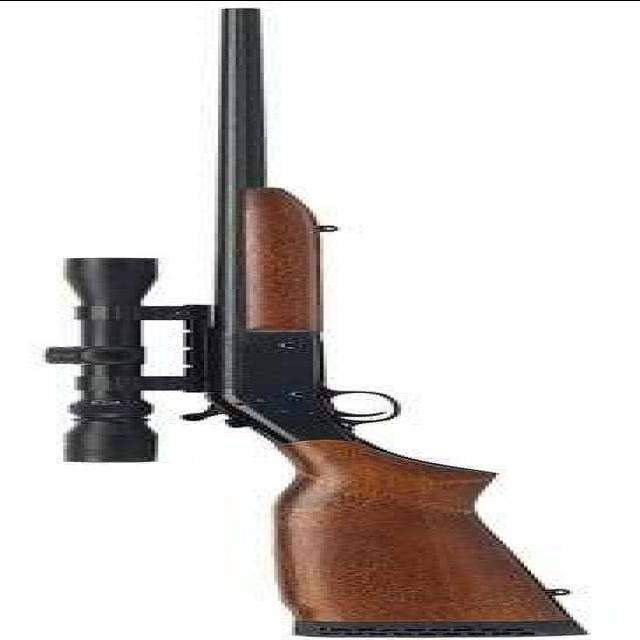heavyweapon: (29, 9, 574, 640)
